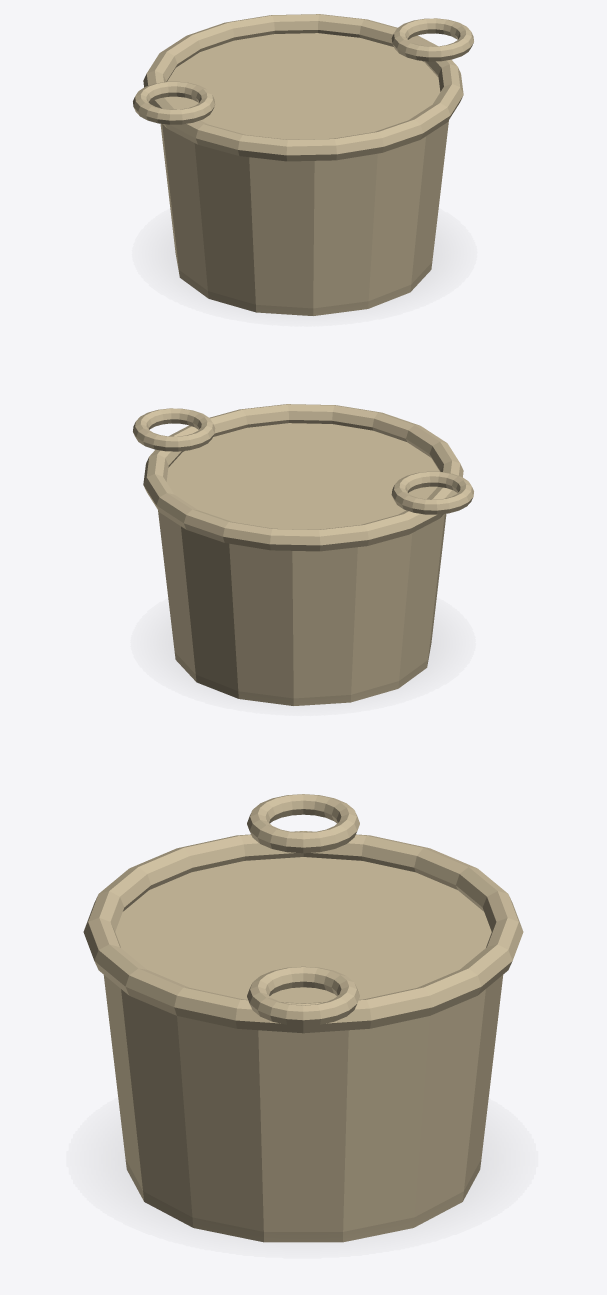
File: rope-basket.glb
3 renders of one model, top to bottom at view 1: azimuth 30°, elevation 25°; view 2: azimuth 150°, elevation 25°; view 3: azimuth 270°, elevation 25°, orthographic. The views are drawn at different scales.
Parts seen in each view (by area): view 1: body, rim, handle.001, handle; view 2: body, rim, handle.001, handle; view 3: body, rim, handle.001, handle.
Part boxes in pixels (left/top/right/bottom): body: left=160, top=33, right=448, bottom=315; rim: left=143, top=14, right=463, bottom=161; handle.001: left=133, top=81, right=215, bottom=124; handle: left=391, top=18, right=473, bottom=61; body: left=158, top=423, right=446, bottom=705; rim: left=143, top=404, right=463, bottom=551; handle.001: left=391, top=471, right=473, bottom=514; handle: left=133, top=408, right=215, bottom=451; body: left=103, top=857, right=503, bottom=1242; rim: left=83, top=831, right=523, bottom=1033; handle.001: left=247, top=794, right=359, bottom=853; handle: left=247, top=966, right=359, bottom=1025.
Bounding box in the file's own units: 0.95 × 0.488 × 0.95.
